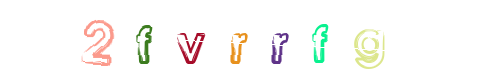2: (101, 0, 181, 80)
F: (105, 0, 185, 80), (256, 0, 336, 80)
G: (280, 0, 360, 80)
R: (197, 0, 277, 80), (203, 0, 283, 80)
V: (185, 0, 265, 80)
